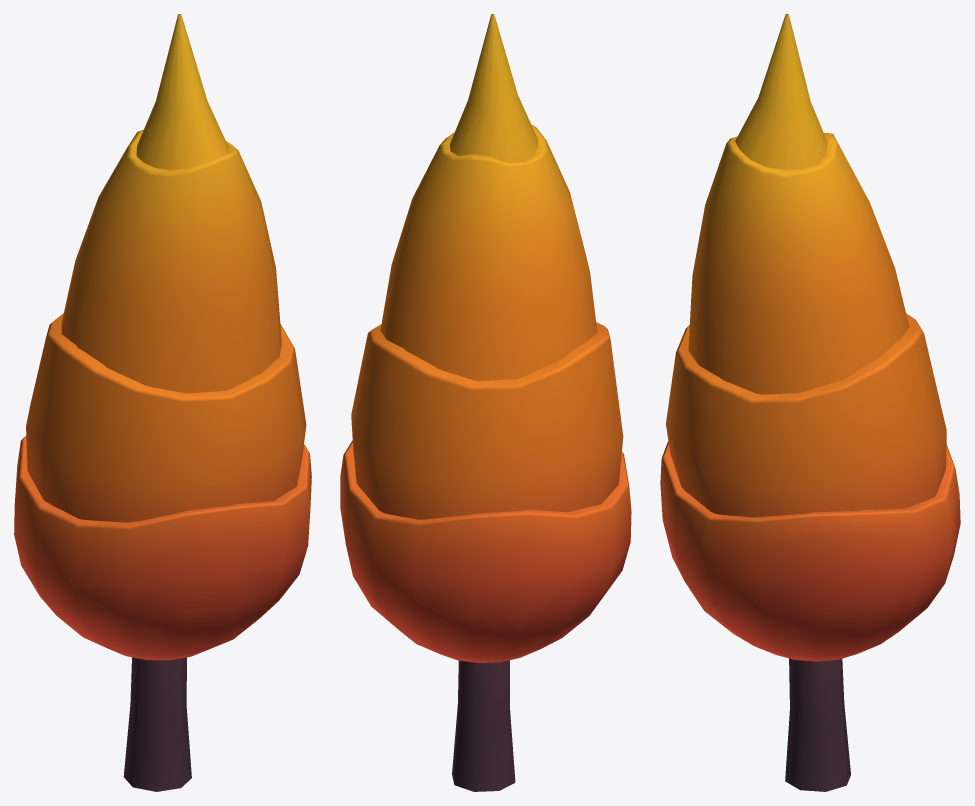
The model's file is prop_environment_tree02_3.fbx.
The picture shows the model from 3 angles, left to right: view 1: azimuth 30°, elevation 25°; view 2: azimuth 150°, elevation 25°; view 3: azimuth 270°, elevation 25°; orthographic projection. The views are drawn at different scales.
Parts seen in each view (by area): view 1: prop_environment_tree02_3; view 2: prop_environment_tree02_3; view 3: prop_environment_tree02_3.
Part boxes in pixels (<box>): prop_environment_tree02_3: <box>14,14,311,791</box>; prop_environment_tree02_3: <box>340,14,631,791</box>; prop_environment_tree02_3: <box>660,14,960,791</box>.
Size of the model in its own units: 202 by 571 by 203.
Materials: 1 (1 with a texture image).
